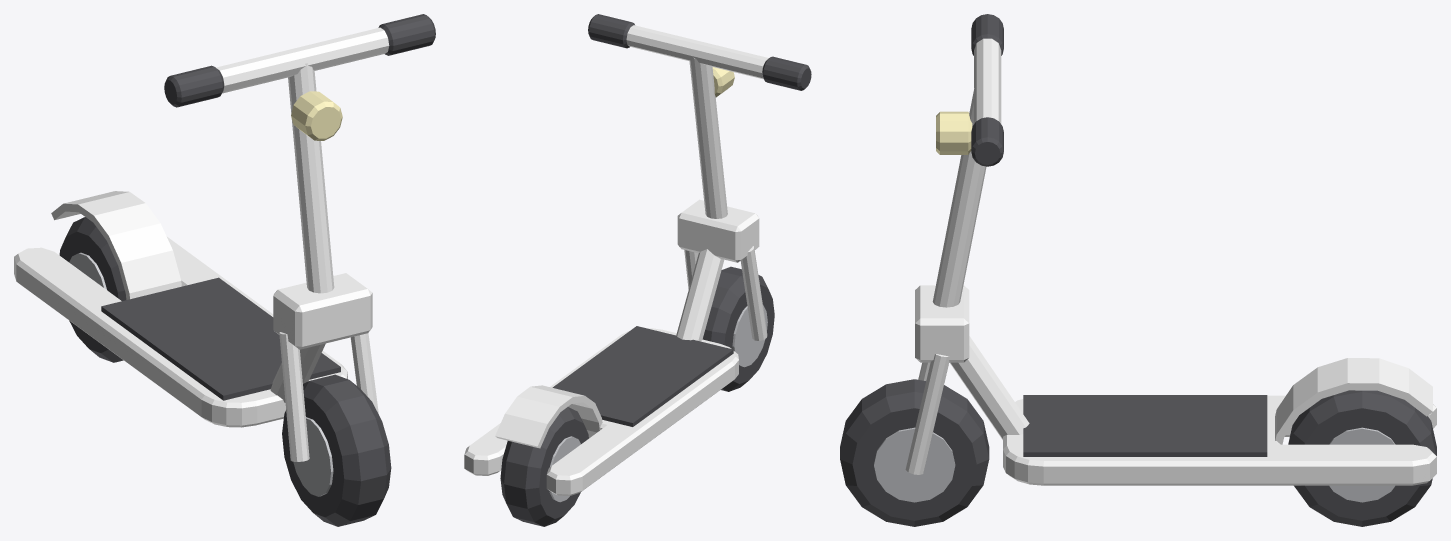
Rendered from scooter_v1.fbx.
3 renders of one model, left to right at view 1: azimuth 30°, elevation 25°; view 2: azimuth 150°, elevation 25°; view 3: azimuth 270°, elevation 25°, orthographic. The views are drawn at different scales.
Visible parts, largest first — view 1: Corpo, Tapete, RodaFrente, GuardaLamas, Guiador, Forqueta, Punhos, RodaTras, Farol, JanteFrente, JanteTras; view 2: Corpo, Tapete, RodaTras, GuardaLamas, RodaFrente, Guiador, Punhos, Forqueta, JanteFrente, JanteTras, Farol; view 3: Corpo, Tapete, RodaFrente, RodaTras, GuardaLamas, JanteFrente, Forqueta, Punhos, Guiador, JanteTras, Farol.
Part boxes in pixels (x1=…): Corpo: x1=14, y1=63, x2=372, y2=427; Tapete: x1=101, y1=277, x2=340, y2=400; RodaFrente: x1=282, y1=374, x2=391, y2=526; GuardaLamas: x1=51, y1=191, x2=181, y2=299; Guiador: x1=216, y1=27, x2=389, y2=93; Forqueta: x1=279, y1=332, x2=378, y2=461; Punhos: x1=164, y1=14, x2=435, y2=107; RodaTras: x1=59, y1=217, x2=126, y2=362; Farol: x1=291, y1=91, x2=342, y2=140; JanteFrente: x1=293, y1=417, x2=333, y2=496; JanteTras: x1=69, y1=252, x2=106, y2=289; Corpo: x1=464, y1=57, x2=759, y2=496; Tapete: x1=552, y1=326, x2=733, y2=426; RodaTras: x1=500, y1=407, x2=588, y2=526; GuardaLamas: x1=495, y1=385, x2=602, y2=448; RodaFrente: x1=702, y1=266, x2=774, y2=391; Guiador: x1=626, y1=25, x2=768, y2=79; Punhos: x1=588, y1=14, x2=811, y2=90; Forqueta: x1=684, y1=246, x2=767, y2=340; JanteFrente: x1=732, y1=305, x2=767, y2=367; JanteTras: x1=549, y1=436, x2=580, y2=502; Farol: x1=712, y1=67, x2=734, y2=97; Corpo: x1=915, y1=88, x2=1436, y2=485; Tapete: x1=1023, y1=395, x2=1267, y2=456; RodaFrente: x1=840, y1=379, x2=989, y2=526; RodaTras: x1=1288, y1=390, x2=1436, y2=526; GuardaLamas: x1=1275, y1=358, x2=1432, y2=444; JanteFrente: x1=874, y1=427, x2=955, y2=502; Forqueta: x1=905, y1=353, x2=949, y2=474; Punhos: x1=971, y1=14, x2=1003, y2=166; Guiador: x1=974, y1=38, x2=1001, y2=123; JanteTras: x1=1329, y1=427, x2=1395, y2=502; Farol: x1=936, y1=111, x2=972, y2=154.
Bounding box in the file's own units: 2.2 × 3.62 × 4.4.
